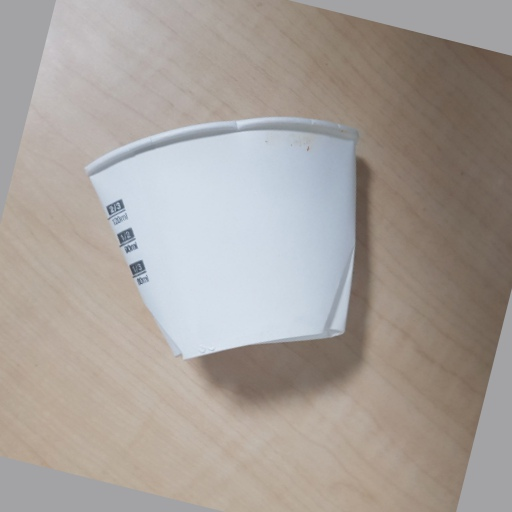Paper_1: (82, 117, 363, 360)
